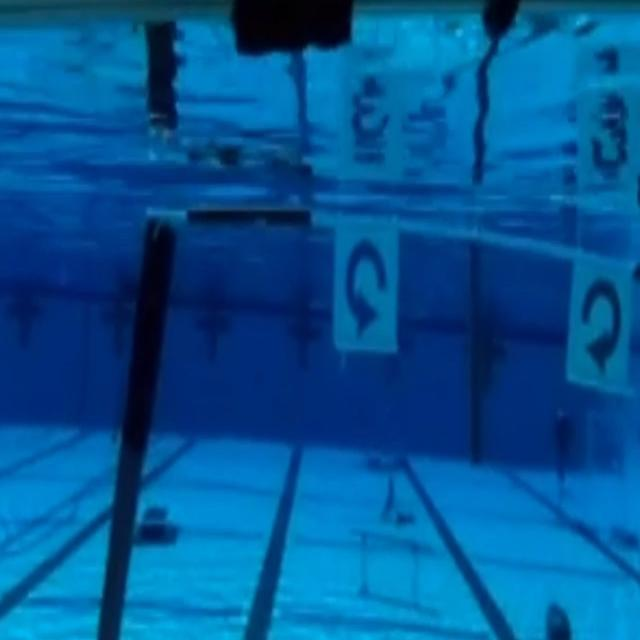Gate: (93, 192, 633, 635)
